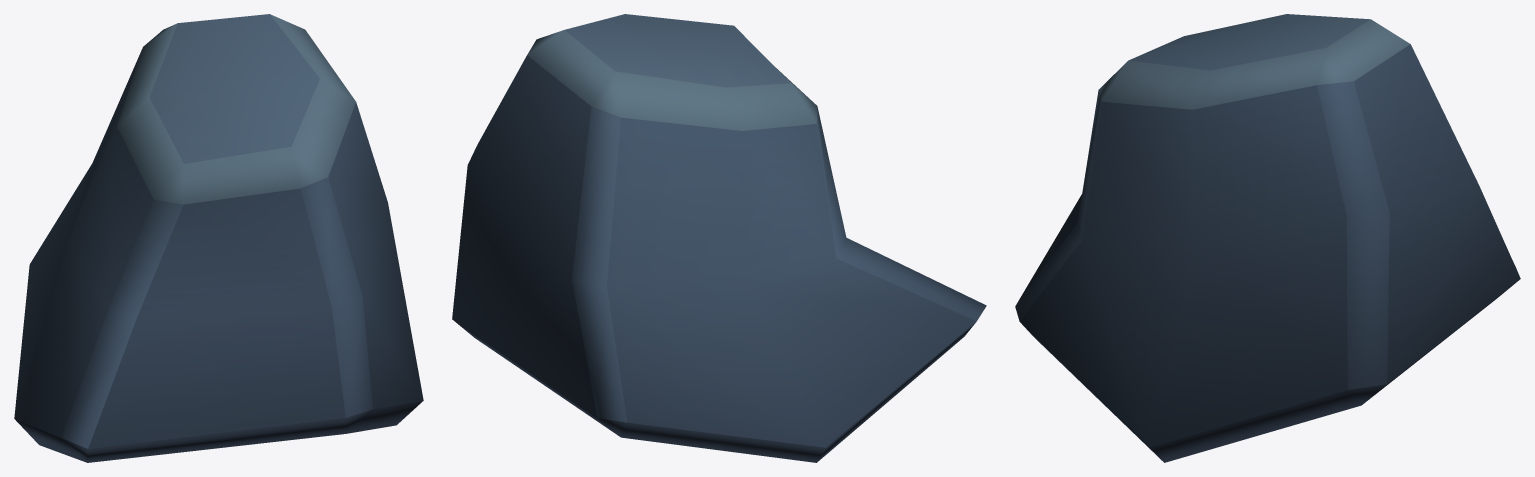
File: rock_08.fbx
3 views of the same model, side by side, from view 1: azimuth 30°, elevation 25°; view 2: azimuth 150°, elevation 25°; view 3: azimuth 270°, elevation 25° (orthographic). The views are drawn at different scales.
Parts seen in each view (by area): view 1: rock_08; view 2: rock_08; view 3: rock_08.
Boxes of the visible parts, x1,y1,x2,y2 form: rock_08: (14,14,423,462); rock_08: (452,14,986,462); rock_08: (1015,14,1520,462).
Size of the model in its own units: 87.31 by 77.66 by 91.49.
Materials: 1 (1 with a texture image).
